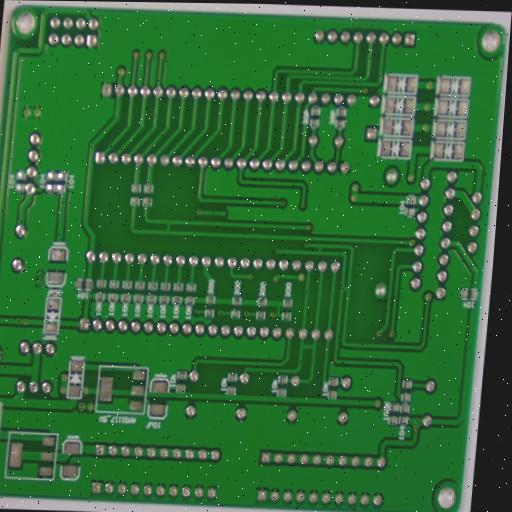short_circuit: (297, 340, 321, 356), (271, 298, 286, 319), (161, 216, 175, 236), (338, 282, 353, 297), (312, 242, 325, 257)
